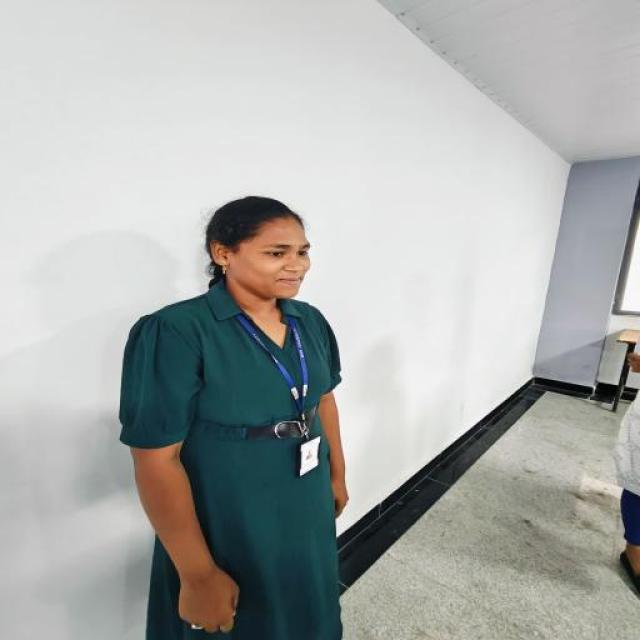Card: (299, 437, 321, 476)
Id strap: (237, 314, 308, 419)
